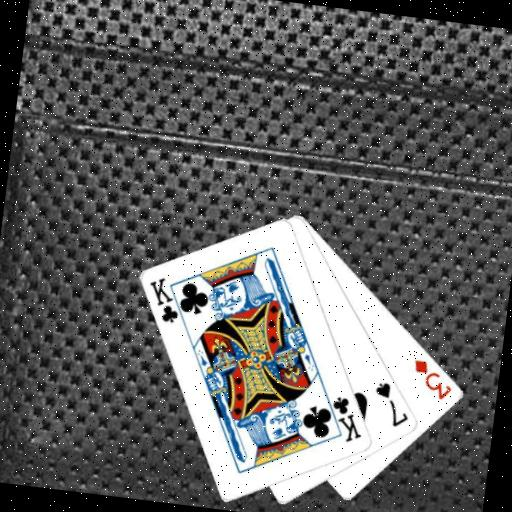3D: (408, 356, 458, 404)
7S: (369, 378, 415, 430)
KC: (317, 392, 368, 446), (143, 273, 194, 327)
